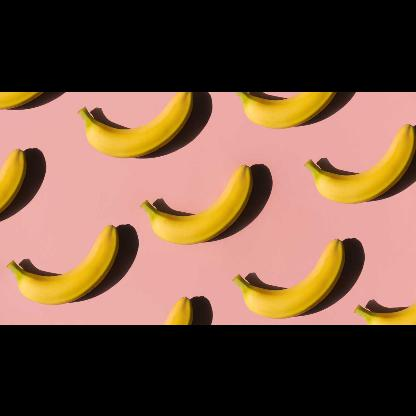banana: (305, 122, 415, 204), (233, 238, 346, 317), (7, 223, 118, 303), (142, 163, 252, 243), (80, 90, 192, 156), (236, 91, 338, 127), (0, 147, 26, 213), (354, 302, 415, 325), (163, 296, 193, 324), (0, 91, 46, 109)
